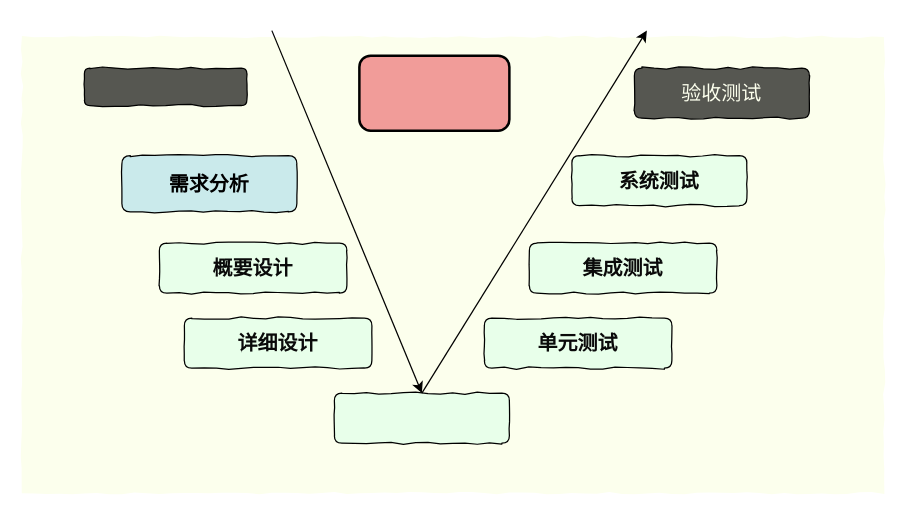
The diagram is 905 pixels wide and 515 high, and some of its shapes have lost their labels. Each missing label, with the centre of its shape:
V 模型: pixel 434 92
用户需求: pixel 165 86
编码: pixel 421 417
